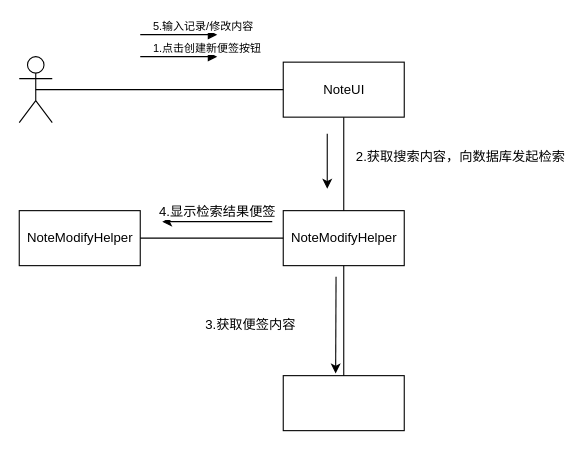
Image size: 583x450. Some labels were removed from this diagram. The centre of each missing label's shape, as x and y in pixels:
"Actor" goes at [35,89].
"DatebaseHelper" goes at [343,403].
